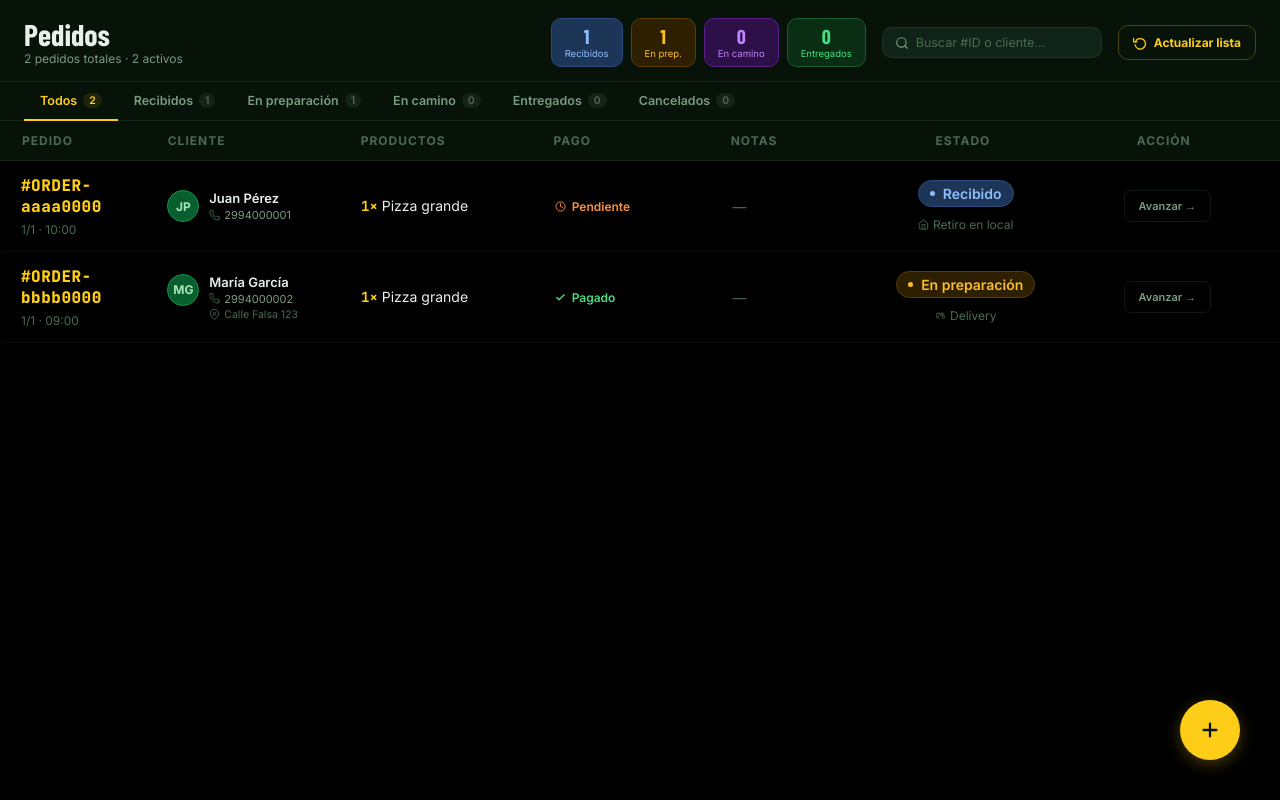
Test: panel de detalle › cambia de contenido al clickear otra fila
Click the element with class "orders-row" that starts with "#ORDER-aaaa0000": (640, 206) top-left (0, 161), bottom-right (1279, 252)
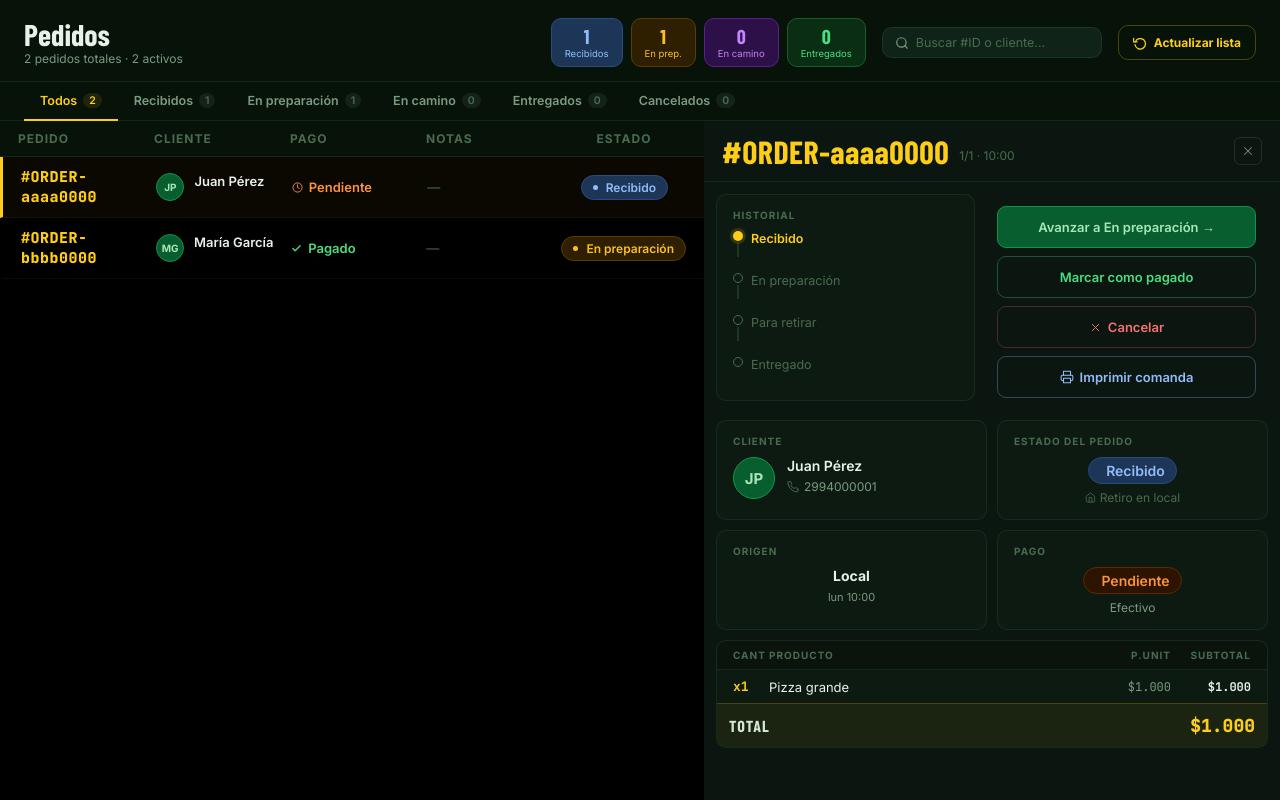
Expected: the text "Juan Pérez" below "ESTADO DEL PEDIDO" is shown, top-left (787, 457), bottom-right (862, 474)
Click the element with class "orders-row" that starts with "#ORDER-bbbb0000": (352, 248) top-left (0, 218), bottom-right (704, 279)
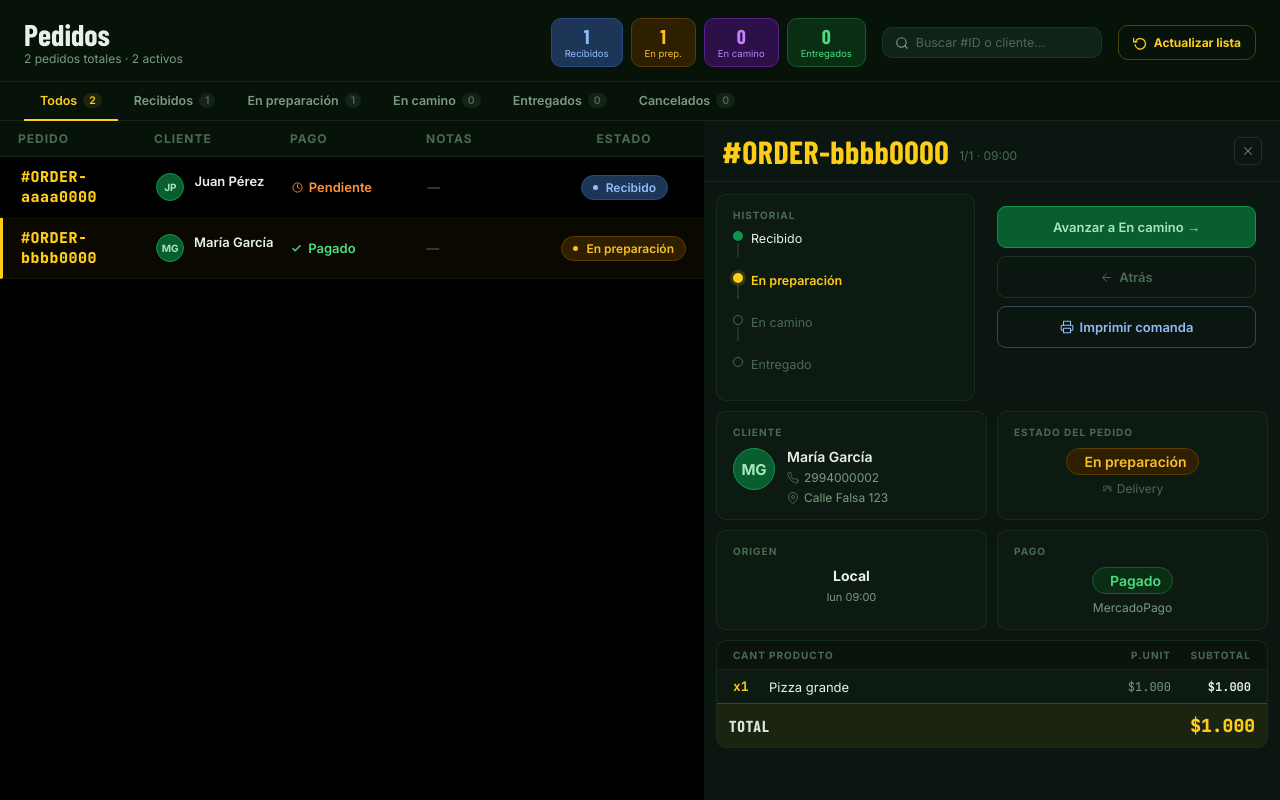
Expected: the text "María García" below "ESTADO DEL PEDIDO" is shown, top-left (787, 448), bottom-right (872, 465)
